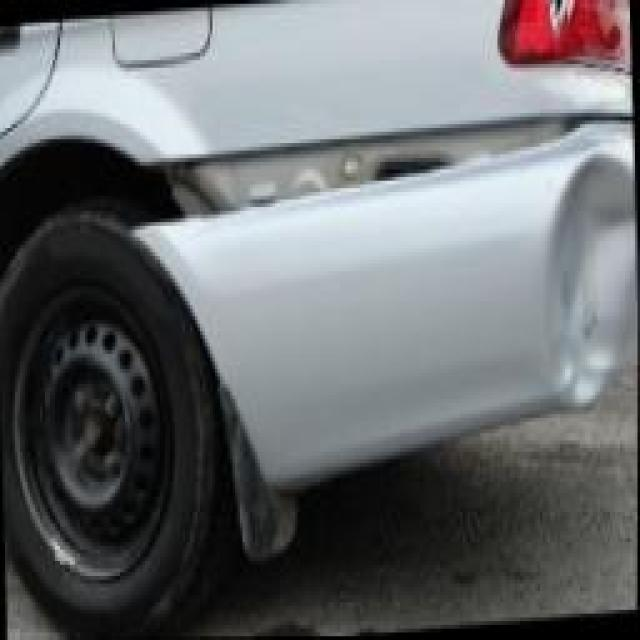Bumper: (148, 120, 639, 479)
Light: (492, 0, 630, 71)
